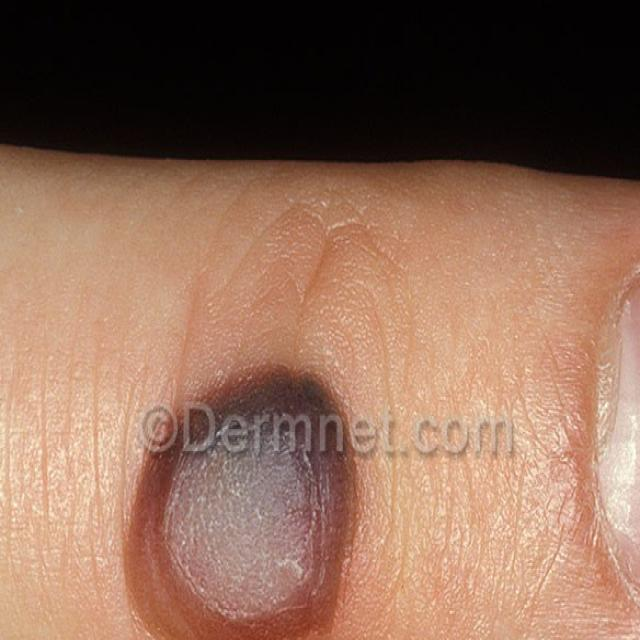Warts: (111, 349, 378, 640)
